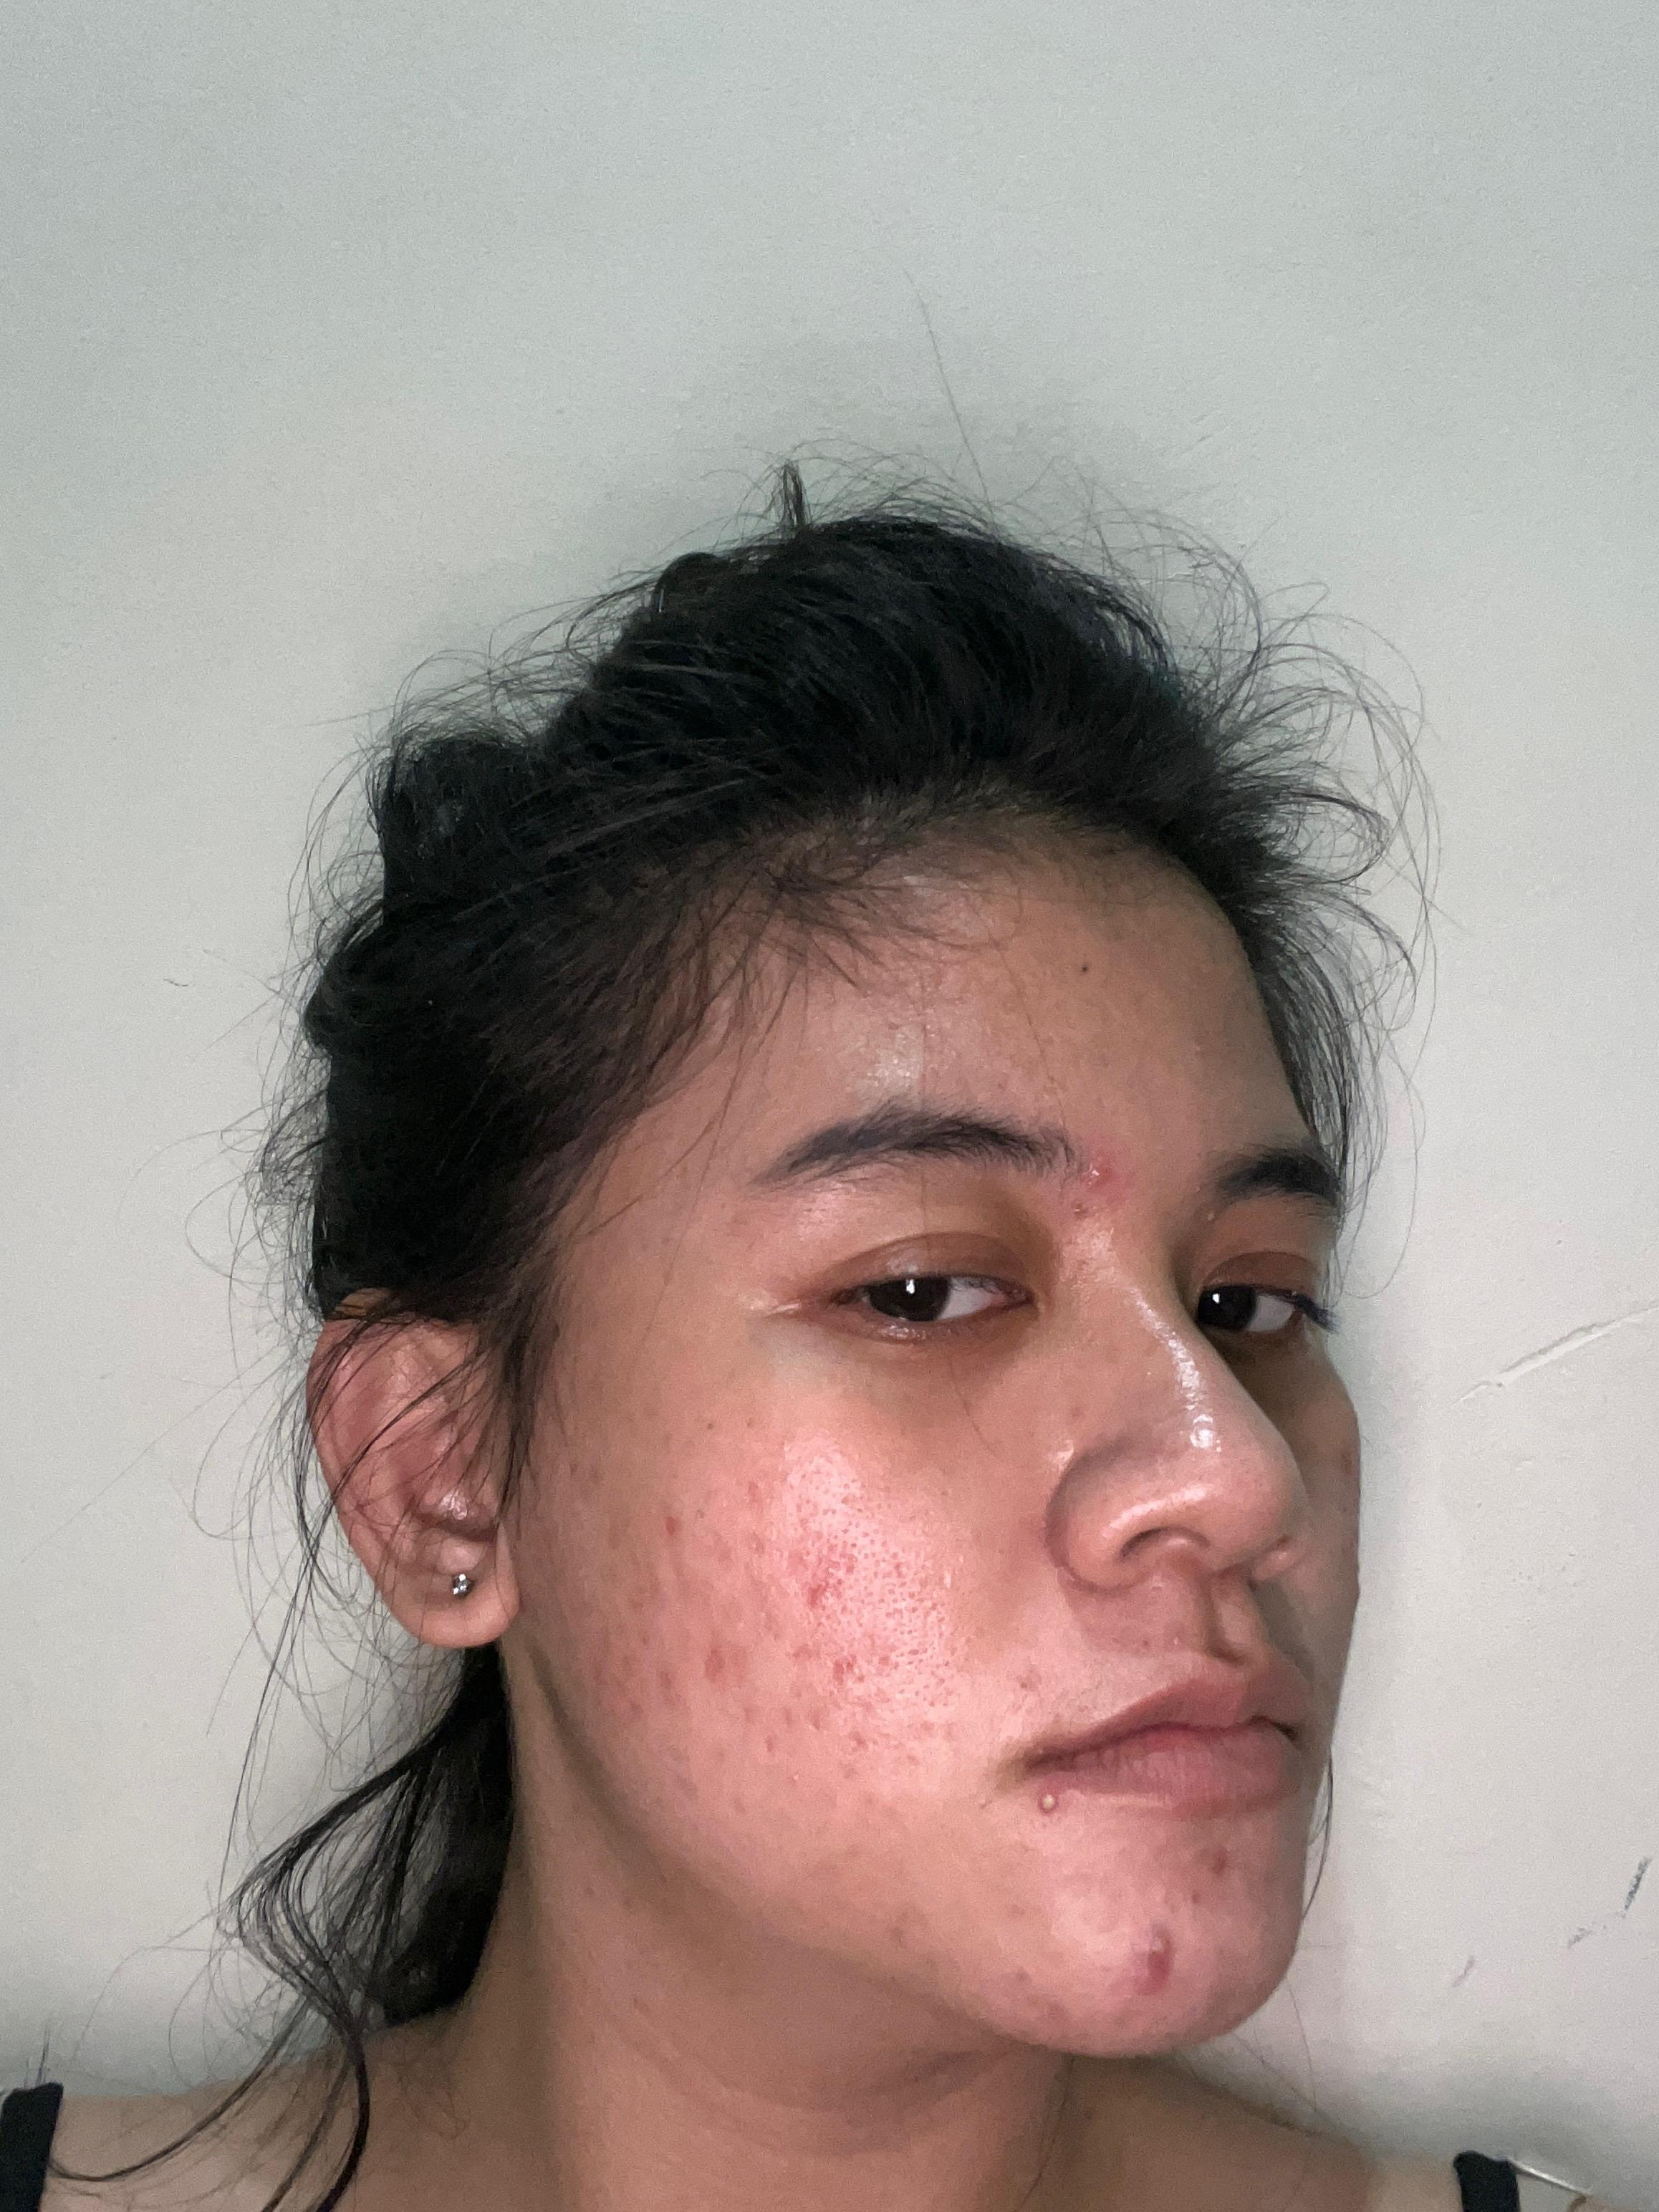Acne: (1014, 1965, 1079, 2031), (735, 1695, 803, 1757), (1133, 1918, 1178, 2000), (711, 1527, 763, 1576), (889, 1897, 922, 1952), (798, 1576, 845, 1615), (694, 1639, 730, 1686), (828, 1646, 868, 1686), (1032, 1784, 1068, 1817), (1086, 1155, 1119, 1190), (653, 1508, 685, 1545), (1012, 1663, 1040, 1700), (657, 1651, 681, 1693), (1063, 1198, 1094, 1228), (843, 1726, 871, 1759), (1206, 1836, 1232, 1871), (913, 1712, 945, 1740), (838, 1545, 861, 1583), (868, 1644, 903, 1669), (1182, 1038, 1211, 1066), (737, 1475, 765, 1505), (1162, 1627, 1188, 1656), (784, 1635, 819, 1656), (624, 1588, 653, 1613), (626, 1691, 659, 1712), (1185, 1885, 1206, 1916)
Englarged-Pores: (767, 1447, 971, 1747)
Eyebags: (755, 1305, 1051, 1423)
